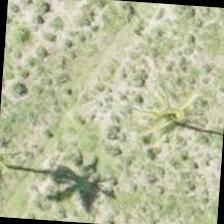Kelapa_Sawit: (128, 72, 224, 168)
